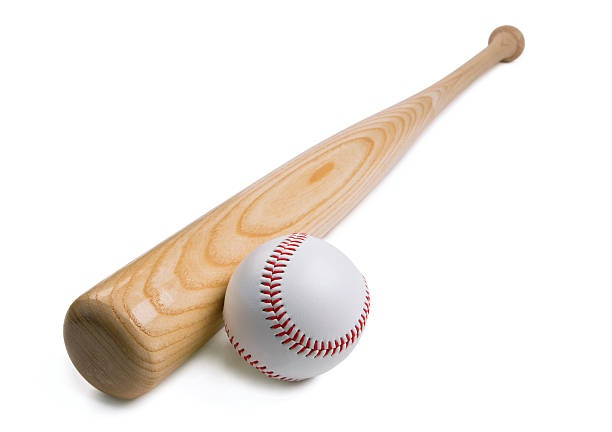bita: (60, 40, 513, 408)
